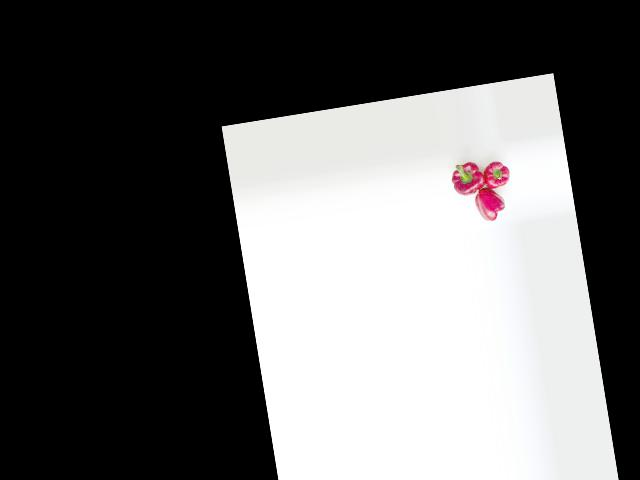bell_pepper: (470, 183, 513, 227)
